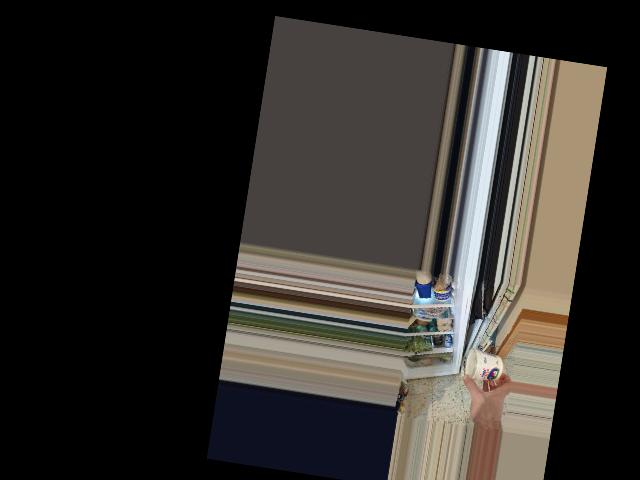cotage: (465, 351, 502, 386)
